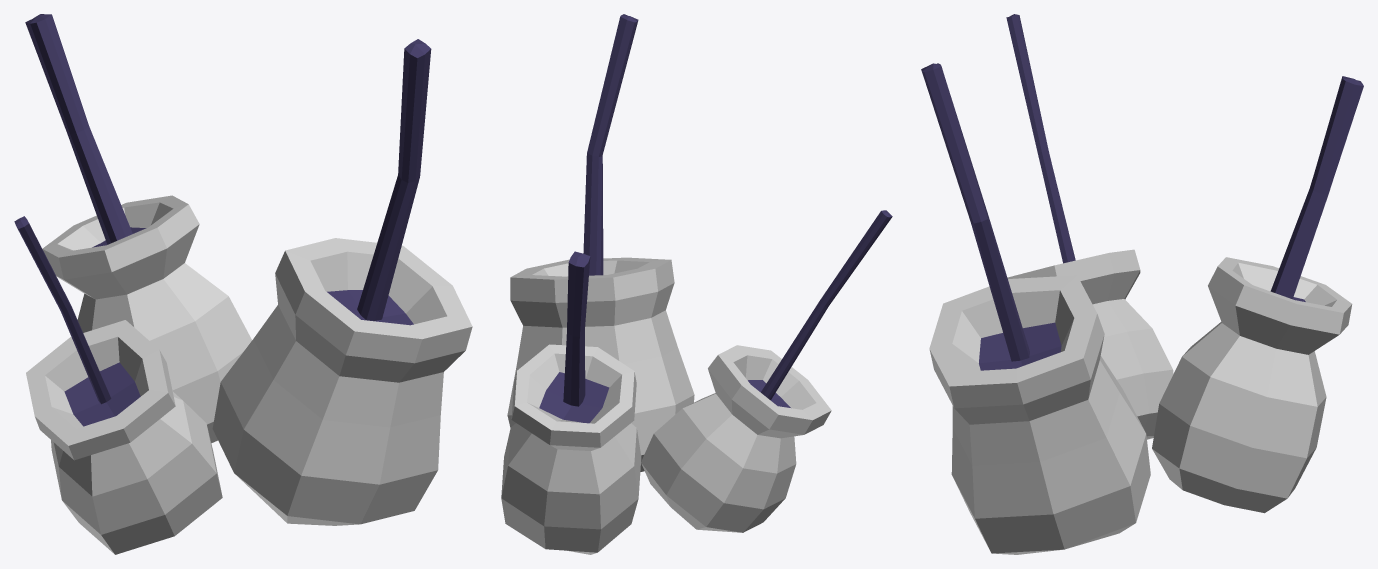
Rendered from voynich3.fbx.
The picture shows the model from 3 angles, left to right: view 1: azimuth 30°, elevation 25°; view 2: azimuth 150°, elevation 25°; view 3: azimuth 270°, elevation 25°; orthographic projection. The views are drawn at different scales.
Parts seen in each view (by area): view 1: Voynich2Tree, Voynich3Fruit; view 2: Voynich2Tree, Voynich3Fruit; view 3: Voynich2Tree, Voynich3Fruit.
Part boxes in pixels (box(x1,y1,x2,y2)): Voynich2Tree: box(26, 195, 472, 554); Voynich3Fruit: box(14, 14, 431, 404); Voynich2Tree: box(501, 257, 831, 554); Voynich3Fruit: box(563, 14, 892, 406); Voynich2Tree: box(929, 249, 1352, 554); Voynich3Fruit: box(921, 14, 1363, 361).
Size of the model in its own units: 0.7791 by 0.8657 by 0.7101.
